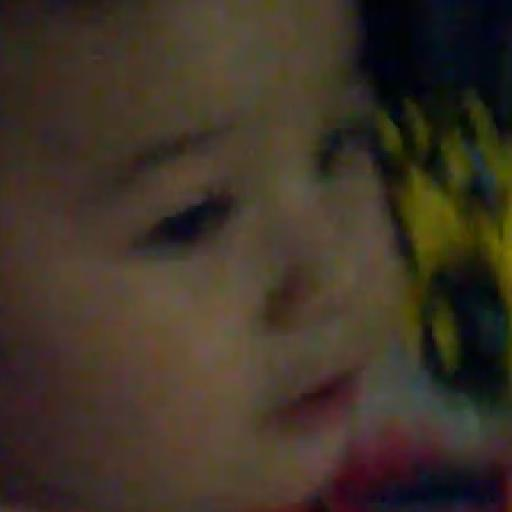Autism: (31, 20, 512, 512)
